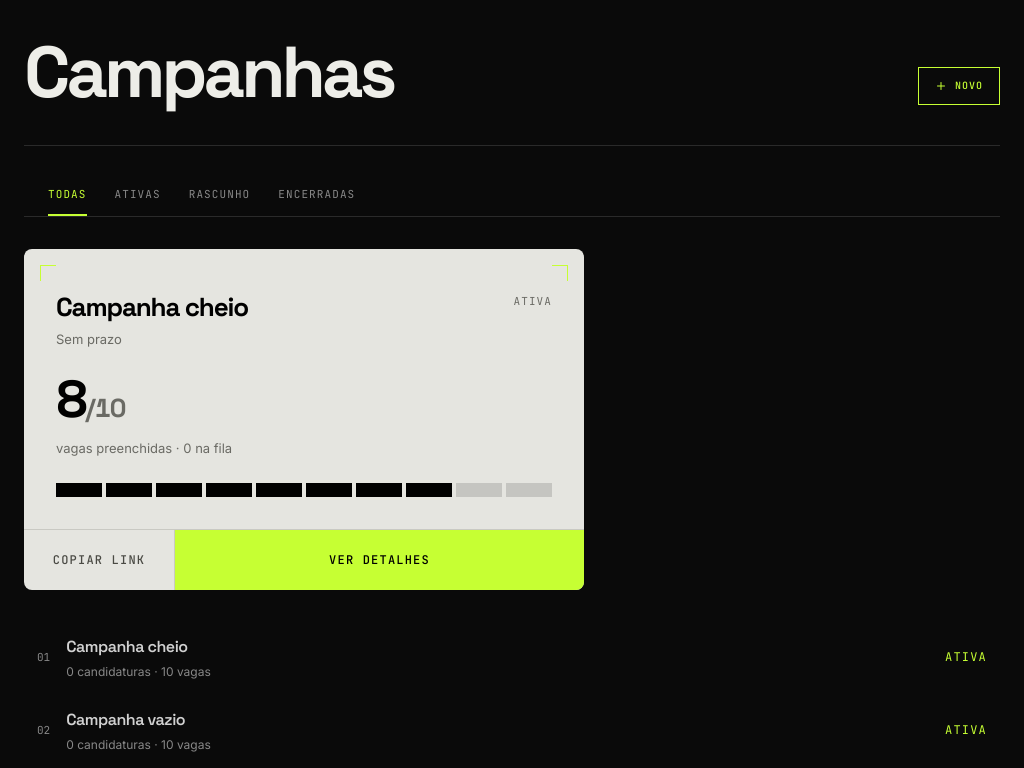
it: CampaignsPage — placa em destaque › não mostra a placa na aba Encerradas
The width and height of the screenshot is (1024, 768).
What coordinates should you click on to do the following:
click the button "Encerradas"
I would click on:
 (317, 201)
Its box is [278,186,355,216].
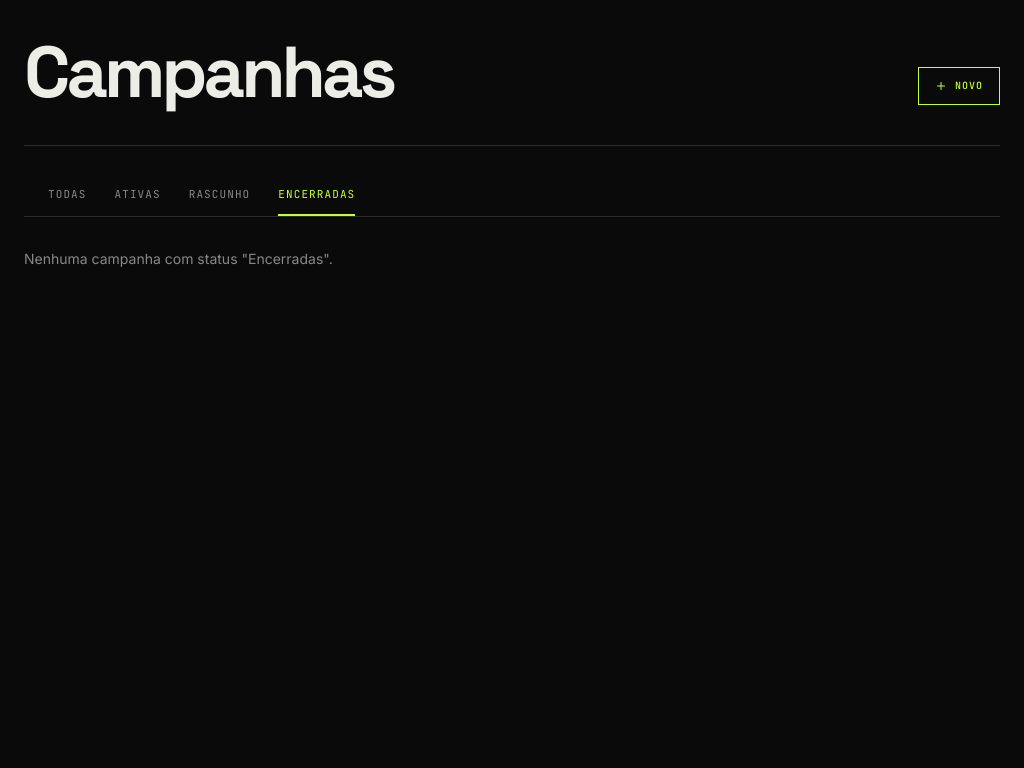
expect the button "Copiar link" is gone: met
